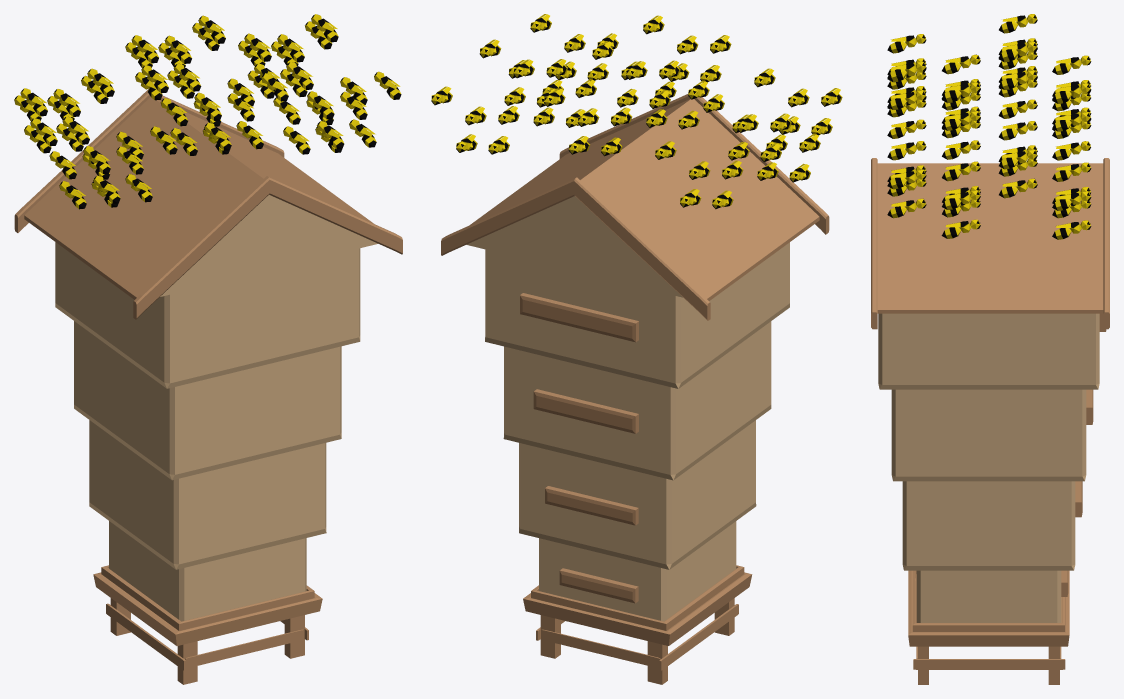
File: BeeKeep.fbx
3 renders of one model, left to right at view 1: azimuth 30°, elevation 25°; view 2: azimuth 150°, elevation 25°; view 3: azimuth 270°, elevation 25°, orthographic. The views are drawn at different scales.
Parts seen in each view (by area): view 1: Cube.030; view 2: Cube.030; view 3: Cube.030.
Boxes of the visible parts, box(x1,y1,x2,y2) form: Cube.030: box(14, 14, 402, 684); Cube.030: box(431, 14, 842, 684); Cube.030: box(871, 14, 1109, 684).
Bounding box in the file's own units: 687 × 1231 × 449.
